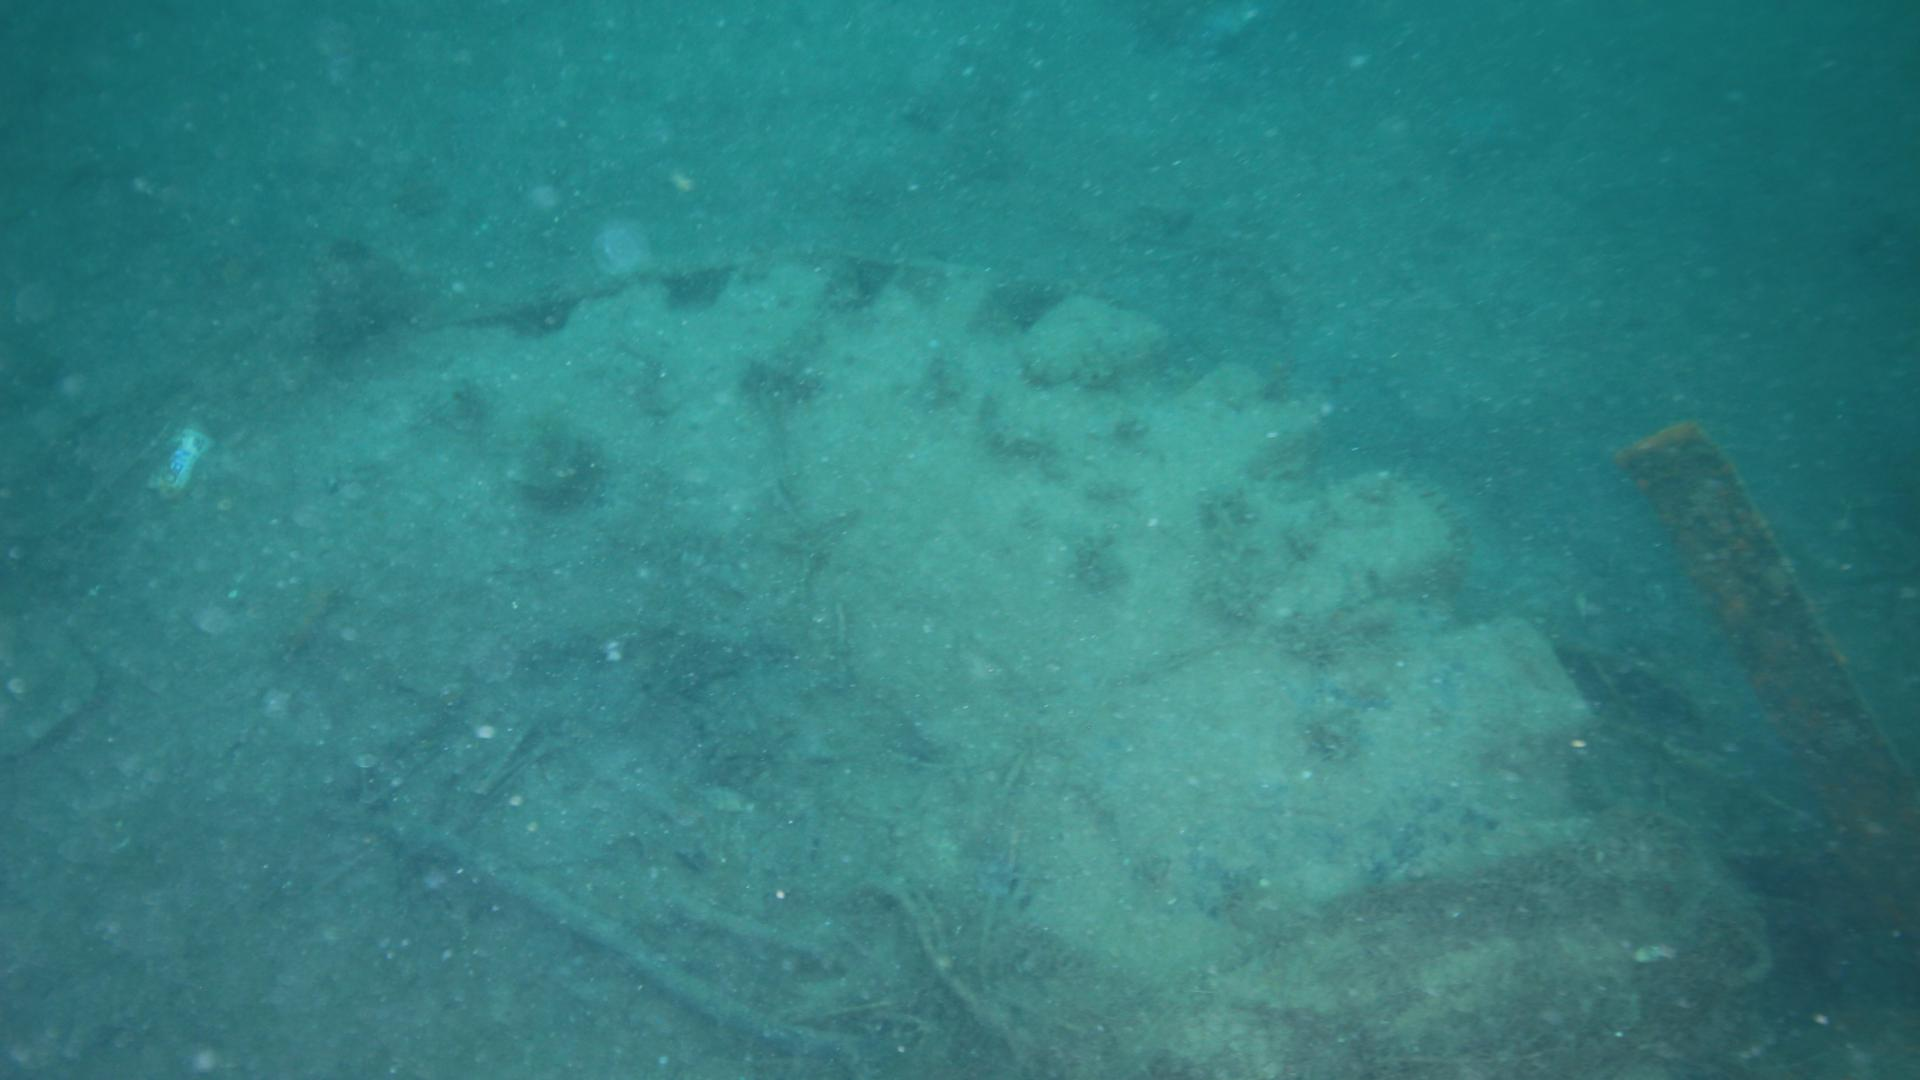tire: (3, 257, 1646, 1080)
